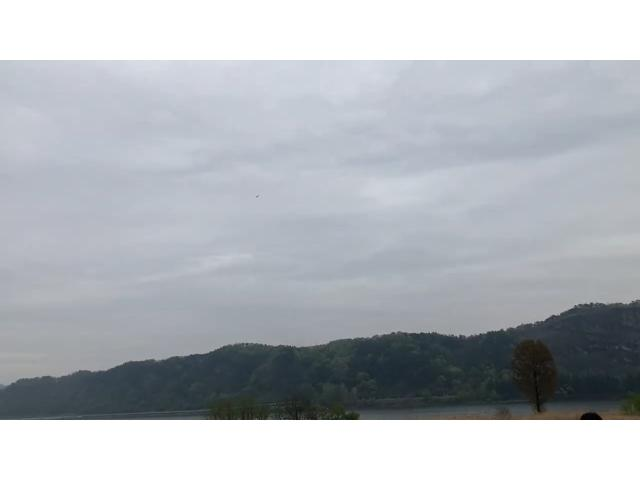Anti-Drone: (250, 191, 264, 202)
